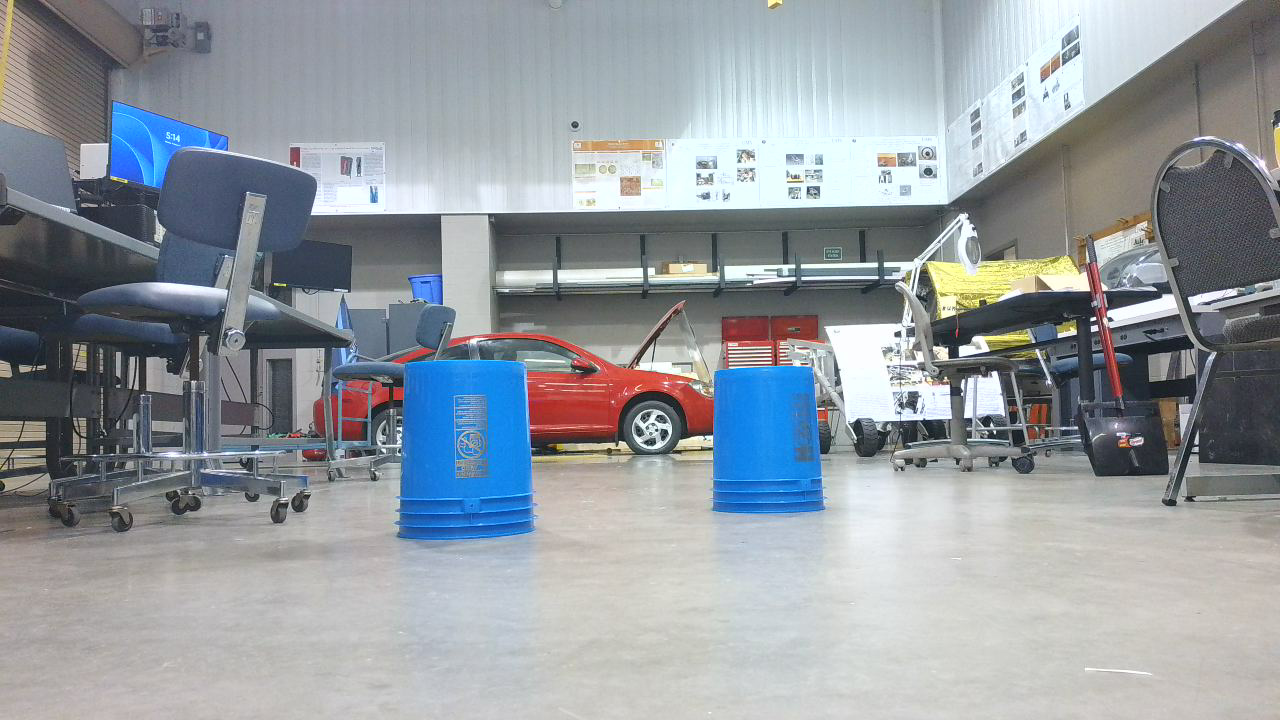blue_bucket: (401, 364, 543, 548), (714, 372, 833, 517)
